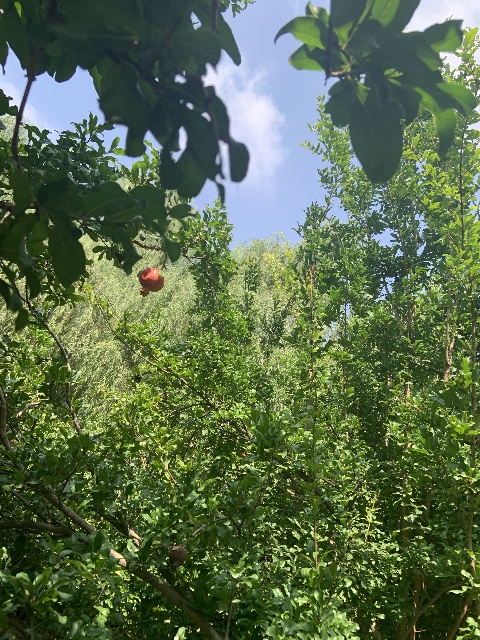flower: (139, 267, 165, 297)
